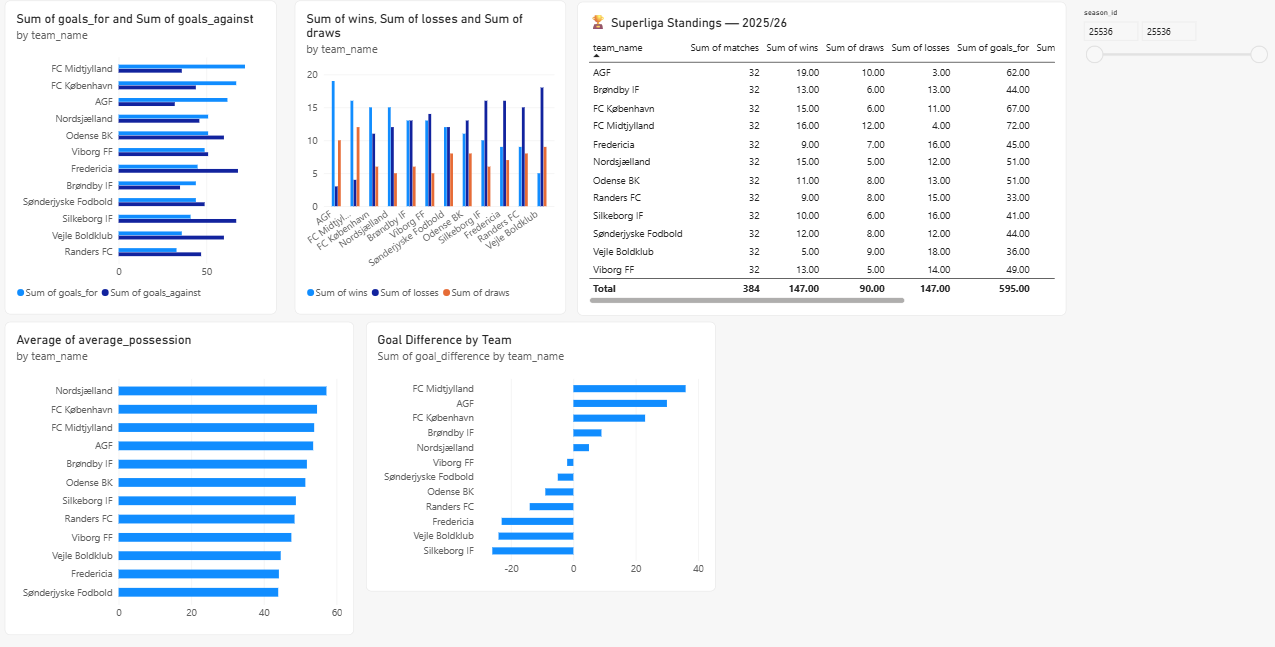

The dashboard page shown, as its layout file describes it:
{"tool":"powerbi","page":{"name":"Team Performance","canvas":[1920,1080],"ordinal":2},"visuals":[{"type":"clusteredBarChart","fields":{"Category":["scoutiq vw_team_season_performance_named.team_name"],"Y":["Sum(scoutiq vw_team_season_performance_named.goals_for)","Sum(scoutiq vw_team_season_performance_named.goals_against)"]},"box":[20,11.1,393.3,454.4],"z":0},{"type":"clusteredColumnChart","fields":{"Category":["scoutiq vw_team_season_performance_named.team_name"],"Y":["Sum(scoutiq vw_team_season_performance_named.wins)","Sum(scoutiq vw_team_season_performance_named.losses)","Sum(scoutiq vw_team_season_performance_named.draws)"]},"box":[438.9,11.1,393,454],"z":1000},{"type":"clusteredBarChart","fields":{"Category":["scoutiq vw_team_season_performance_named.team_name"],"Y":["Avg(scoutiq vw_team_season_performance_named.average_possession)"]},"box":[20,475.6,505.6,453.3],"z":2000},{"type":"clusteredBarChart","title":"Goal Difference by Team","fields":{"Category":["scoutiq vw_team_season_performance_named.team_name"],"Y":["Sum(scoutiq vw_team_season_performance_named.goal_difference)"]},"box":[542,476,506,390],"z":3000},{"type":"tableEx","title":"🏆 Superliga Standings — 2025/26","fields":{"Values":["scoutiq vw_team_season_performance_named.team_name","Sum(scoutiq vw_team_season_performance_named.matches)","Sum(scoutiq vw_team_season_performance_named.wins)","Sum(scoutiq vw_team_season_performance_named.draws)","Sum(scoutiq vw_team_season_performance_named.losses)","Sum(scoutiq vw_team_season_performance_named.goals_for)","Sum(scoutiq vw_team_season_performance_named.goals_against)","Sum(scoutiq vw_team_season_performance_named.goal_difference)","scoutiq vw_player_match_summary.Points"]},"box":[848,12,708,454],"z":4000},{"type":"slicer","fields":{"Values":["scoutiq vw_team_season_performance_named.season_id"]},"box":[1574.4,22.2,277.8,100],"z":5000},{"type":"textbox","box":[1574,122,278,344],"z":6000}]}

Visuals, with their boxes on the page's 1920x1080 design canvas (x1, y1, x2, y2). These are canvas units, not pixel positions in the 1275x647 screenshot, which may show the page scaled, cropped or inside an application window:
clusteredBarChart - scoutiq vw_team_season_performance_named.team_name x Sum(scoutiq vw_team_season_performance_named.goals_for): 20, 11, 413, 466
clusteredColumnChart - scoutiq vw_team_season_performance_named.team_name x Sum(scoutiq vw_team_season_performance_named.wins): 439, 11, 832, 465
clusteredBarChart - scoutiq vw_team_season_performance_named.team_name x Avg(scoutiq vw_team_season_performance_named.average_possession): 20, 476, 526, 929
"Goal Difference by Team" clusteredBarChart: 542, 476, 1048, 866
"🏆 Superliga Standings — 2025/26" tableEx: 848, 12, 1556, 466
slicer - scoutiq vw_team_season_performance_named.season_id: 1574, 22, 1852, 122
textbox: 1574, 122, 1852, 466
